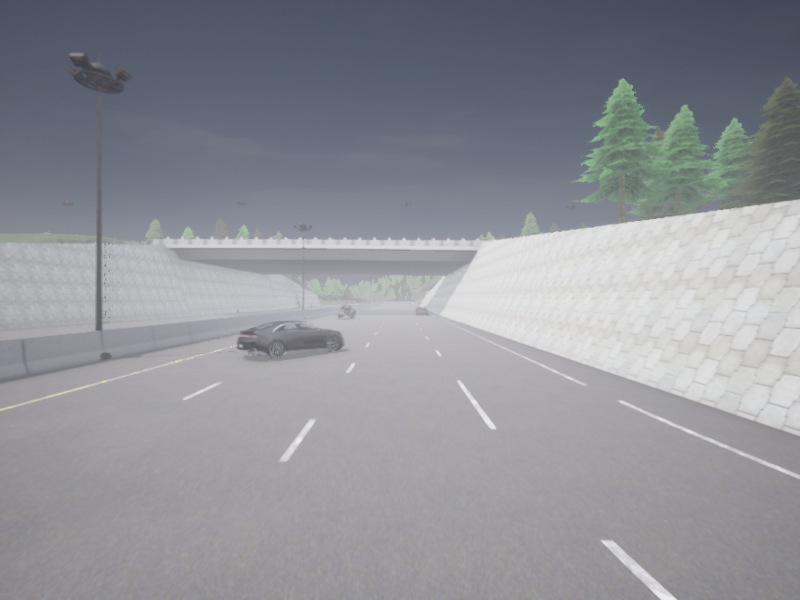vehicle: (237, 321, 344, 358), (338, 304, 355, 318), (415, 307, 427, 314)
